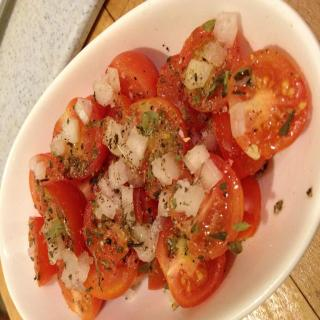tomato: (225, 47, 309, 158), (166, 155, 244, 260), (157, 217, 225, 307), (176, 23, 242, 108), (51, 96, 110, 178), (210, 104, 266, 180), (42, 178, 88, 255), (55, 255, 106, 319), (103, 49, 161, 102), (83, 245, 139, 298), (26, 215, 59, 285), (29, 150, 55, 218), (239, 174, 262, 238), (160, 55, 182, 109)
